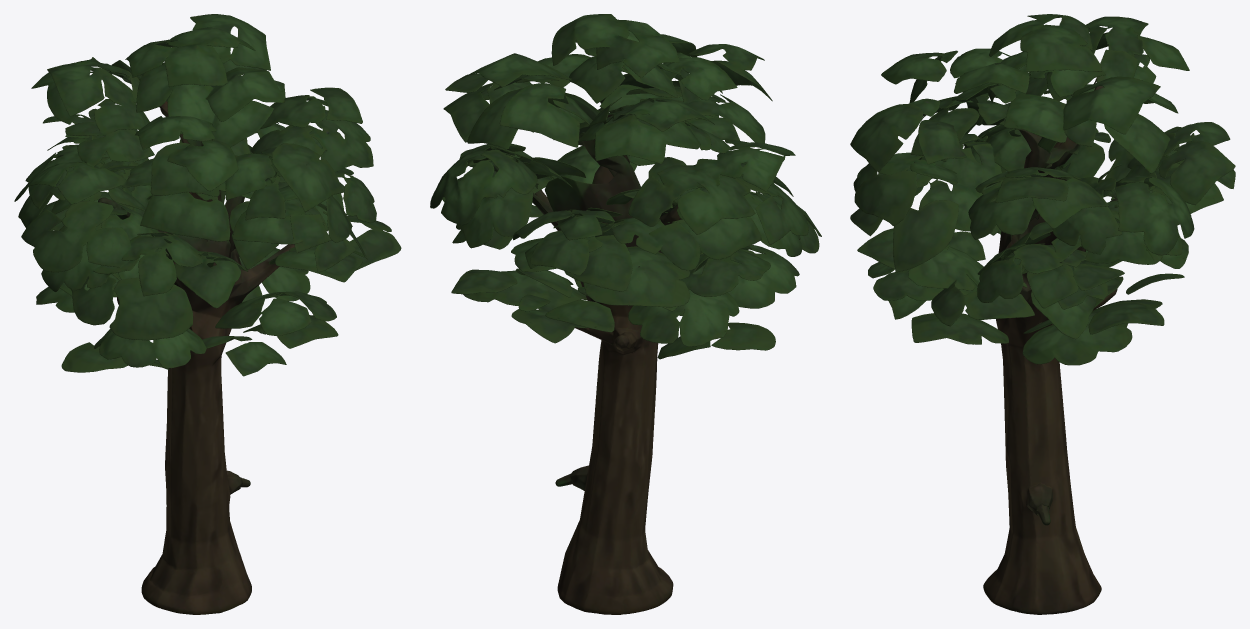
File: tree1.glb
The picture shows the model from 3 angles, left to right: view 1: azimuth 30°, elevation 25°; view 2: azimuth 150°, elevation 25°; view 3: azimuth 270°, elevation 25°; orthographic projection. The views are drawn at different scales.
Parts seen in each view (by area): view 1: world; view 2: world; view 3: world.
Part boxes in pixels (box(x1,y1,x2,y2)): world: box(14, 14, 401, 614); world: box(430, 14, 821, 614); world: box(850, 14, 1235, 614).
Size of the model in its own units: 0.6307 by 0.9972 by 0.6166.
1 material, 1 textured.
